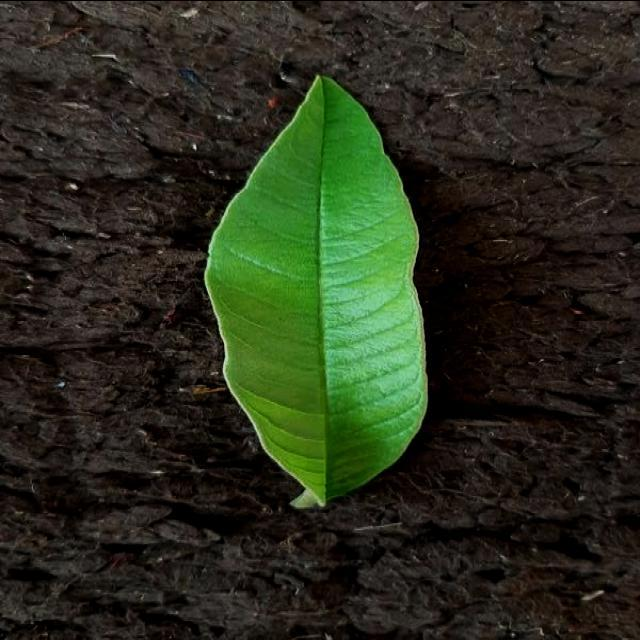leaf: (203, 73, 429, 509)
